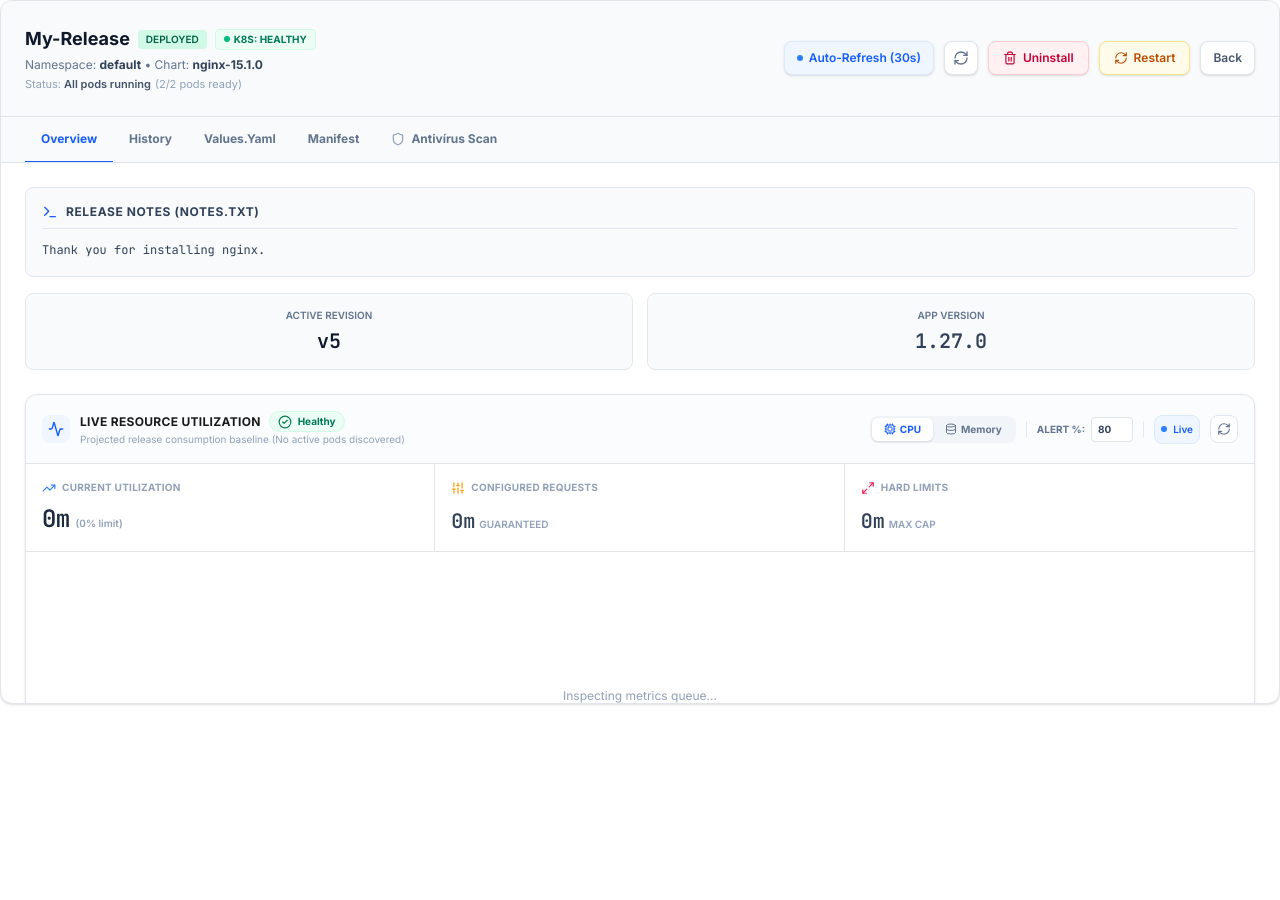
Test: ReleaseDetails › clicking auto-refresh toggles the state
Click the button "Auto-Refresh (30s)" at (859, 58), box [784,41,934,75]
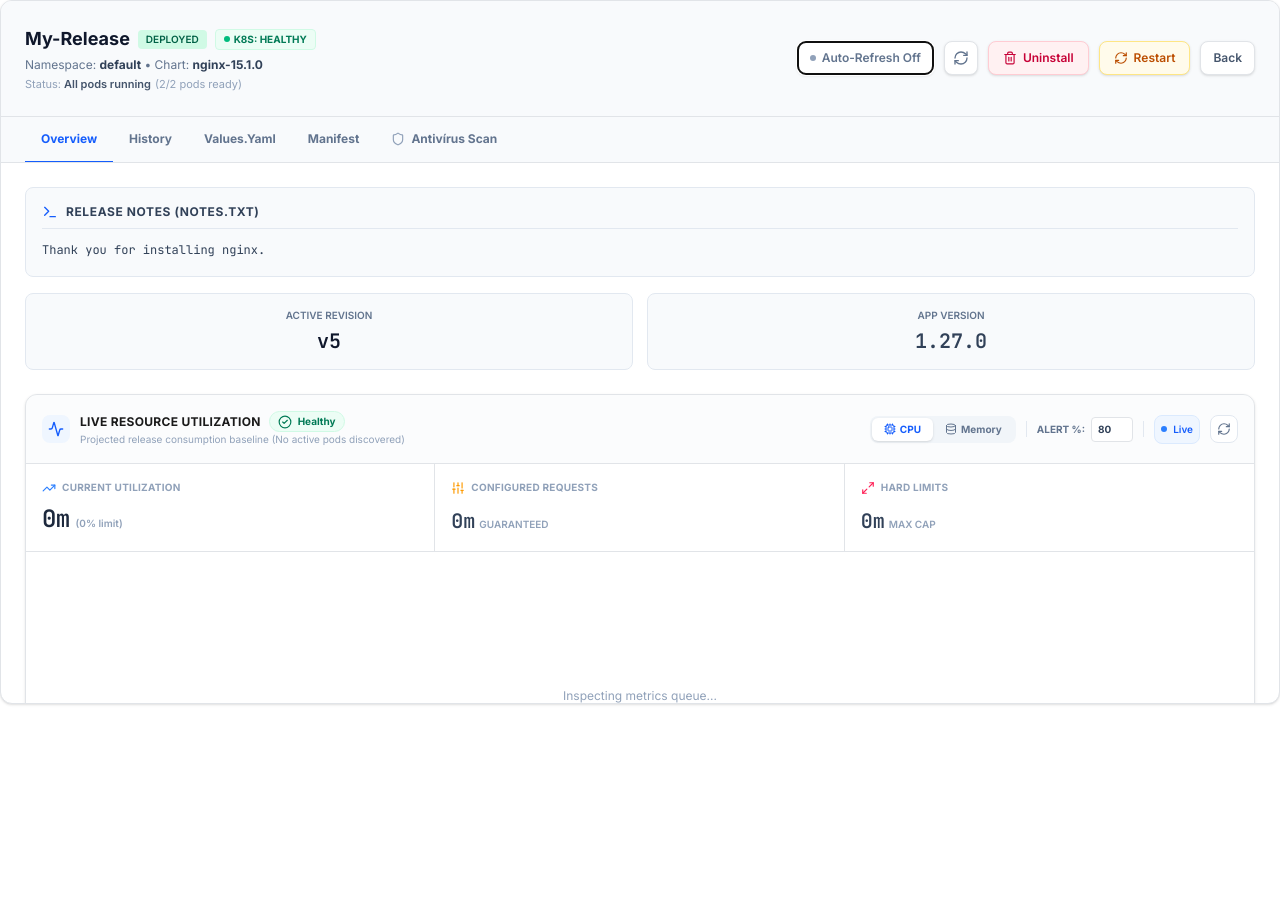
Check: the button "Auto-Refresh Off" is shown, box [797,41,934,75]
